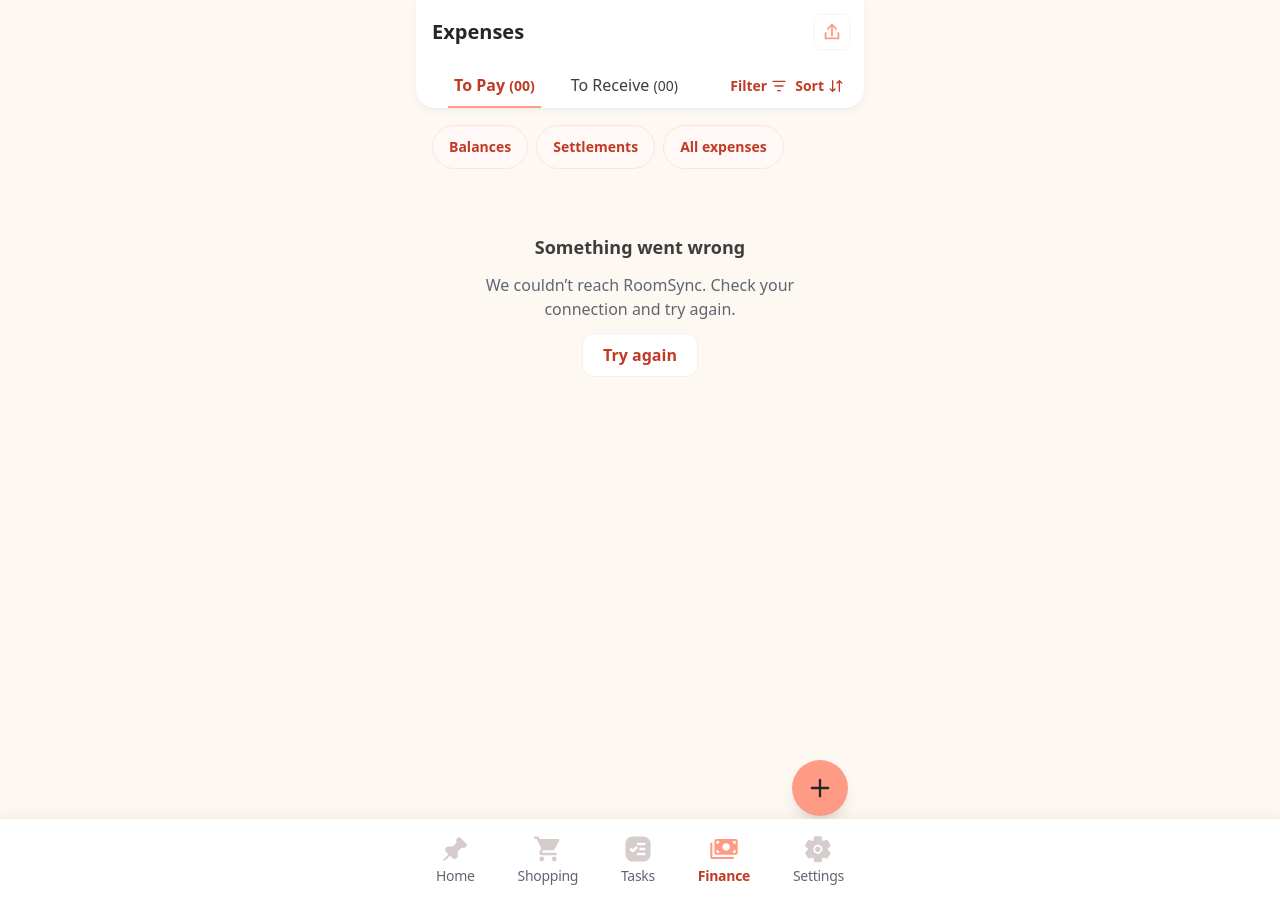
Test: Expenses tab › has a loading state, then an error with retry for the list
Expected: the text "We couldn’t reach RoomSync. Check your connection and try again." is shown, [480, 273, 800, 321]
Click the button "Try again".
click(640, 355)  # box [582, 333, 698, 377]
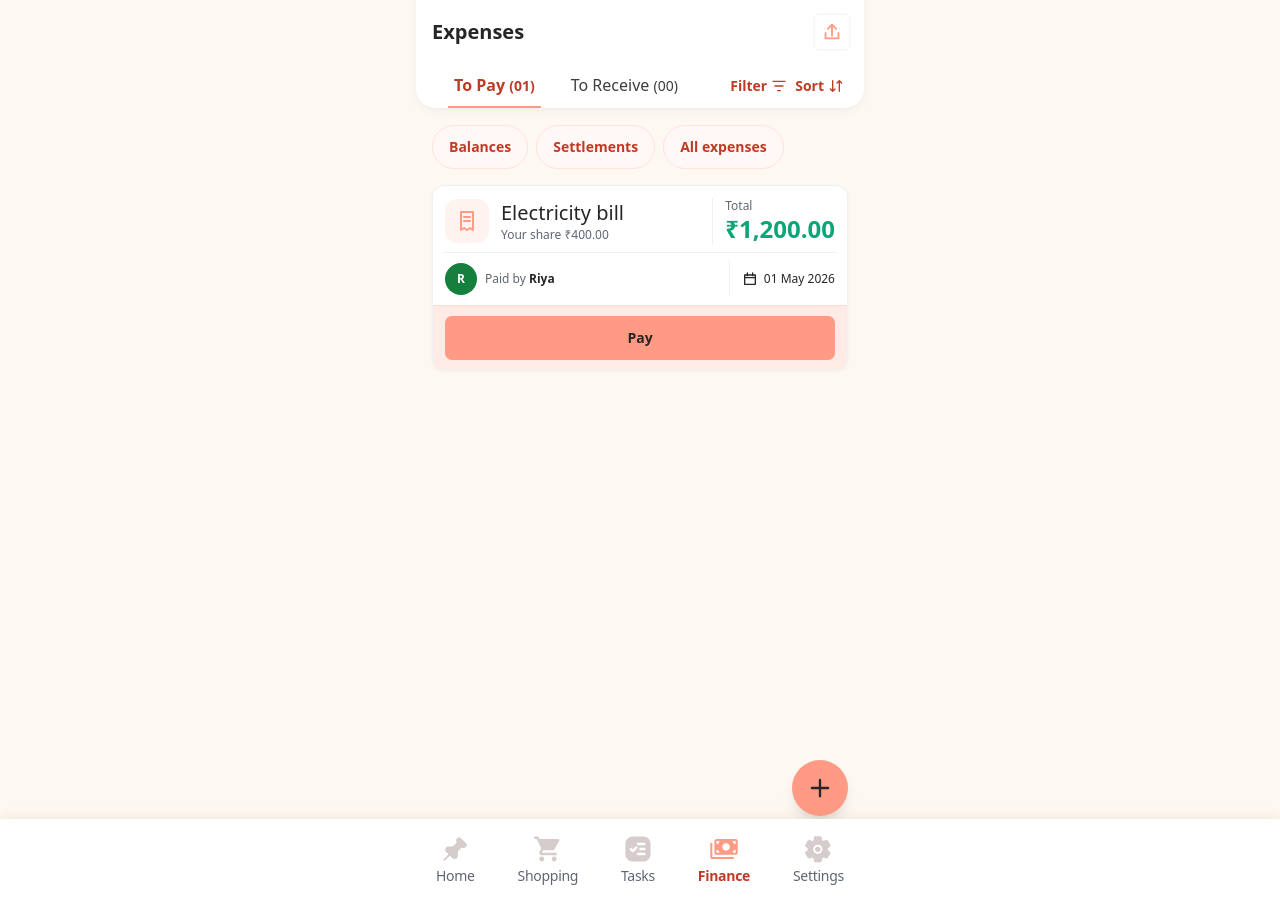
Now the text "Electricity bill" is shown, box [501, 198, 624, 226]
